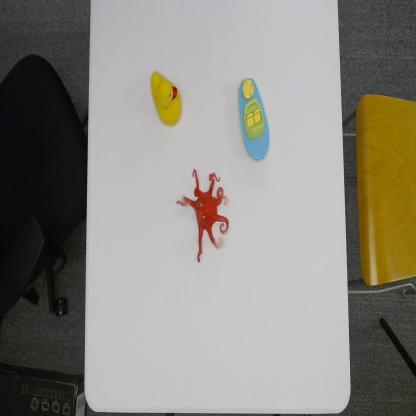Boat: (236, 75, 270, 162)
Duck: (149, 69, 184, 129)
Octopus: (175, 166, 231, 264)
